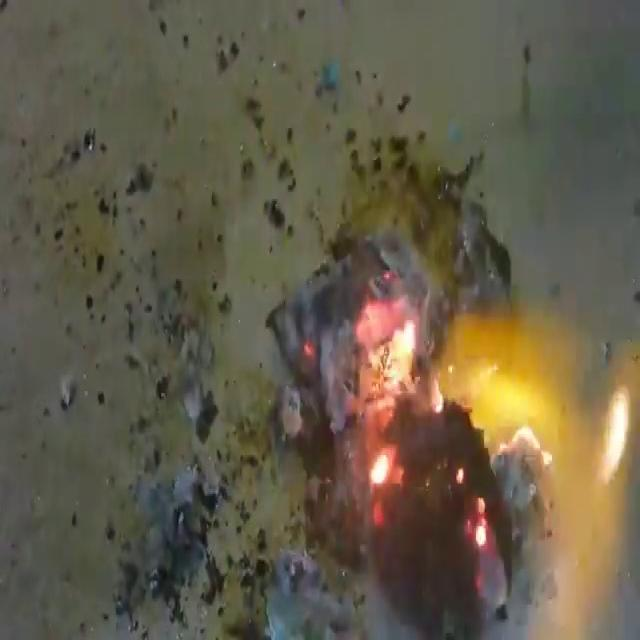Fire: (246, 142, 640, 640)
